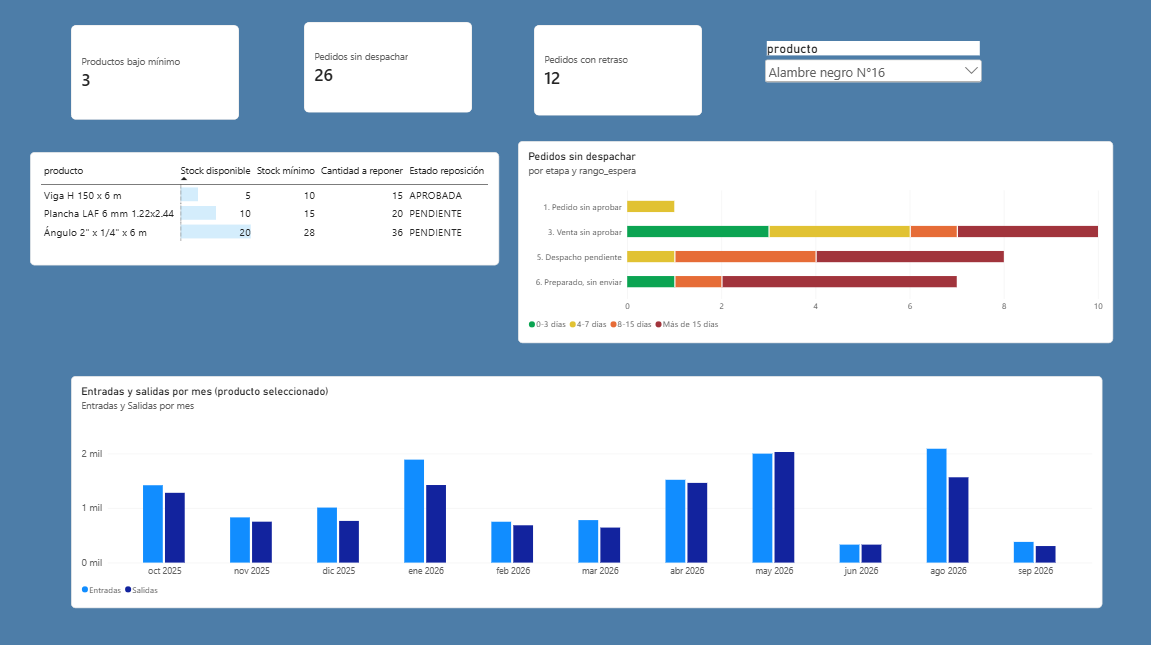

The page's visual inventory and layout, read from the dashboard file:
{"tool":"powerbi","page":{"name":"Inventario","canvas":[1920,1080],"ordinal":1},"visuals":[{"type":"cardVisual","fields":{"Data":["Medidas.Productos bajo mínimo"]},"box":[120,43.5,280.3,158.4],"z":0},{"type":"cardVisual","fields":{"Data":["Medidas.Pedidos sin despachar"]},"box":[508.5,39,280.3,151.4],"z":1000},{"type":"cardVisual","fields":{"Data":["Medidas.Pedidos con retraso"]},"box":[891,43.5,280.3,151.4],"z":2000},{"type":"slicer","fields":{"Values":["v_movimientos_stock.producto"]},"box":[1272,70.5,370.5,85.5],"z":3000},{"type":"tableEx","fields":{"Values":["v_stock_bajo_minimo.producto","Sum(v_stock_bajo_minimo.stock_disponible)","Sum(v_stock_bajo_minimo.stock_minimo)","Sum(v_stock_bajo_minimo.cantidad_a_reponer)","v_stock_bajo_minimo.estado_reposicion"]},"box":[51,255,781.5,189],"z":4000},{"type":"barChart","fields":{"Category":["v_pedidos_sin_despachar.etapa"],"Series":["v_pedidos_sin_despachar.rango_espera"],"Y":["Medidas.Pedidos sin despachar"]},"box":[865.5,237,991.7,336.7],"z":4001},{"type":"clusteredColumnChart","title":"Entradas y salidas por mes (producto seleccionado)","fields":{"Category":["Meses.mes"],"Y":["Sum(v_movimientos_stock.entradas)","Sum(v_movimientos_stock.salidas)"]},"box":[120,628.5,1719,387],"z":4002}]}

Visuals, with their boxes in screenshot pixels (x1, y1, x2, y2), scaled from the page's 1920x1080 canvas onto the 1151x645 screenshot:
cardVisual - Medidas.Productos bajo mínimo: {"x1": 72, "y1": 26, "x2": 240, "y2": 121}
cardVisual - Medidas.Pedidos sin despachar: {"x1": 305, "y1": 23, "x2": 473, "y2": 114}
cardVisual - Medidas.Pedidos con retraso: {"x1": 534, "y1": 26, "x2": 702, "y2": 116}
slicer - v_movimientos_stock.producto: {"x1": 763, "y1": 42, "x2": 985, "y2": 93}
tableEx - v_stock_bajo_minimo.producto x Sum(v_stock_bajo_minimo.stock_disponible): {"x1": 31, "y1": 152, "x2": 499, "y2": 265}
barChart - v_pedidos_sin_despachar.etapa x v_pedidos_sin_despachar.rango_espera: {"x1": 519, "y1": 142, "x2": 1113, "y2": 343}
"Entradas y salidas por mes (producto seleccionado)" clusteredColumnChart: {"x1": 72, "y1": 375, "x2": 1102, "y2": 606}
